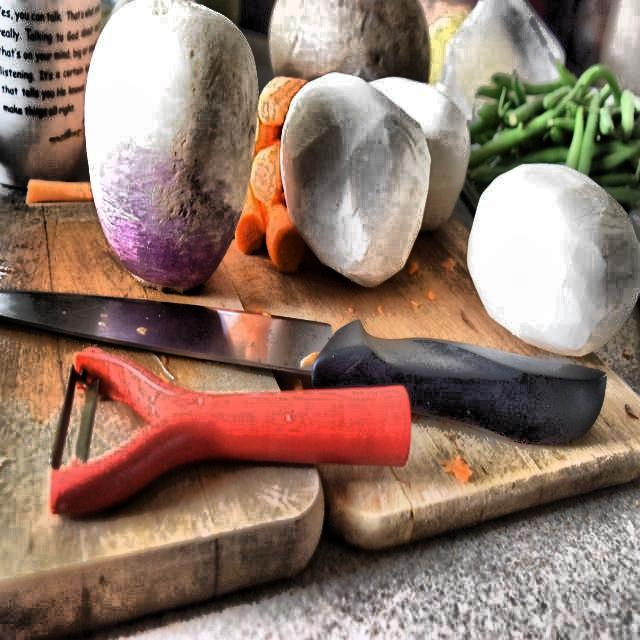knife: (0, 282, 610, 452)
